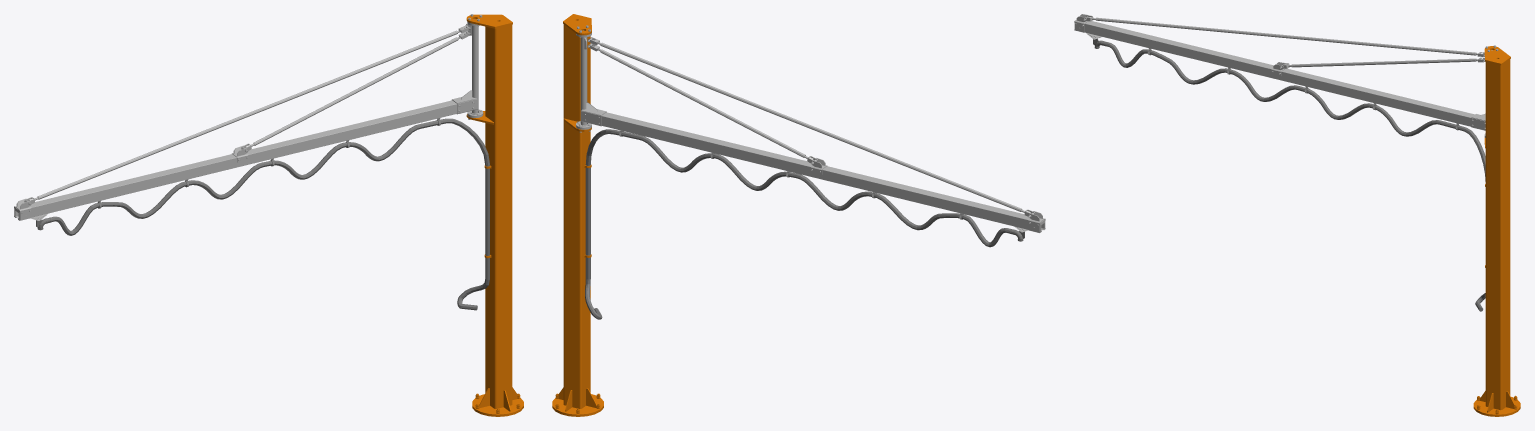
File: aardwolf_all_part_Over Braced Jib Crane - 5m - 250kg@p1_-100_-166_0@p2_4966_-166_3067_X.fbx
3 renders of one model, left to right at view 1: azimuth 30°, elevation 25°; view 2: azimuth 150°, elevation 25°; view 3: azimuth 330°, elevation 25°, orthographic. The views are drawn at different scales.
Visible parts, largest first — view 1: aardwolf_all_part_obj330, aardwolf_all_part_obj329, Shape154, Shape153; view 2: aardwolf_all_part_obj329, aardwolf_all_part_obj330, Shape154, Shape153; view 3: aardwolf_all_part_obj330, aardwolf_all_part_obj329, Shape154.
Boxes of the visible parts, <box> form: aardwolf_all_part_obj330: <box>466,14,523,416</box>; aardwolf_all_part_obj329: <box>14,14,483,220</box>; Shape154: <box>51,120,438,235</box>; Shape153: <box>440,118,489,310</box>; aardwolf_all_part_obj329: <box>576,25,1045,232</box>; aardwolf_all_part_obj330: <box>552,14,603,416</box>; Shape154: <box>621,131,1009,247</box>; Shape153: <box>585,129,619,319</box>; aardwolf_all_part_obj330: <box>1473,46,1520,416</box>; aardwolf_all_part_obj329: <box>1074,14,1498,137</box>; Shape154: <box>1105,42,1456,136</box>.
Bounding box in the file's own units: 5446 × 4061 × 493.
